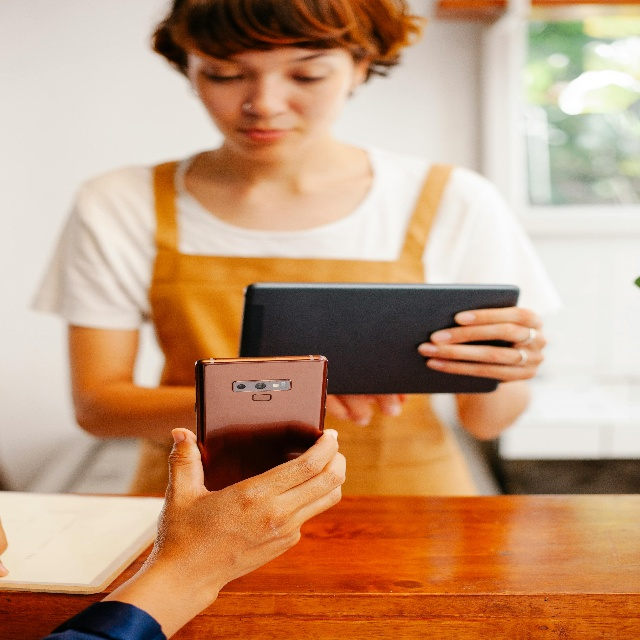Sin_guantes: (157, 428, 346, 591), (417, 306, 547, 384)
